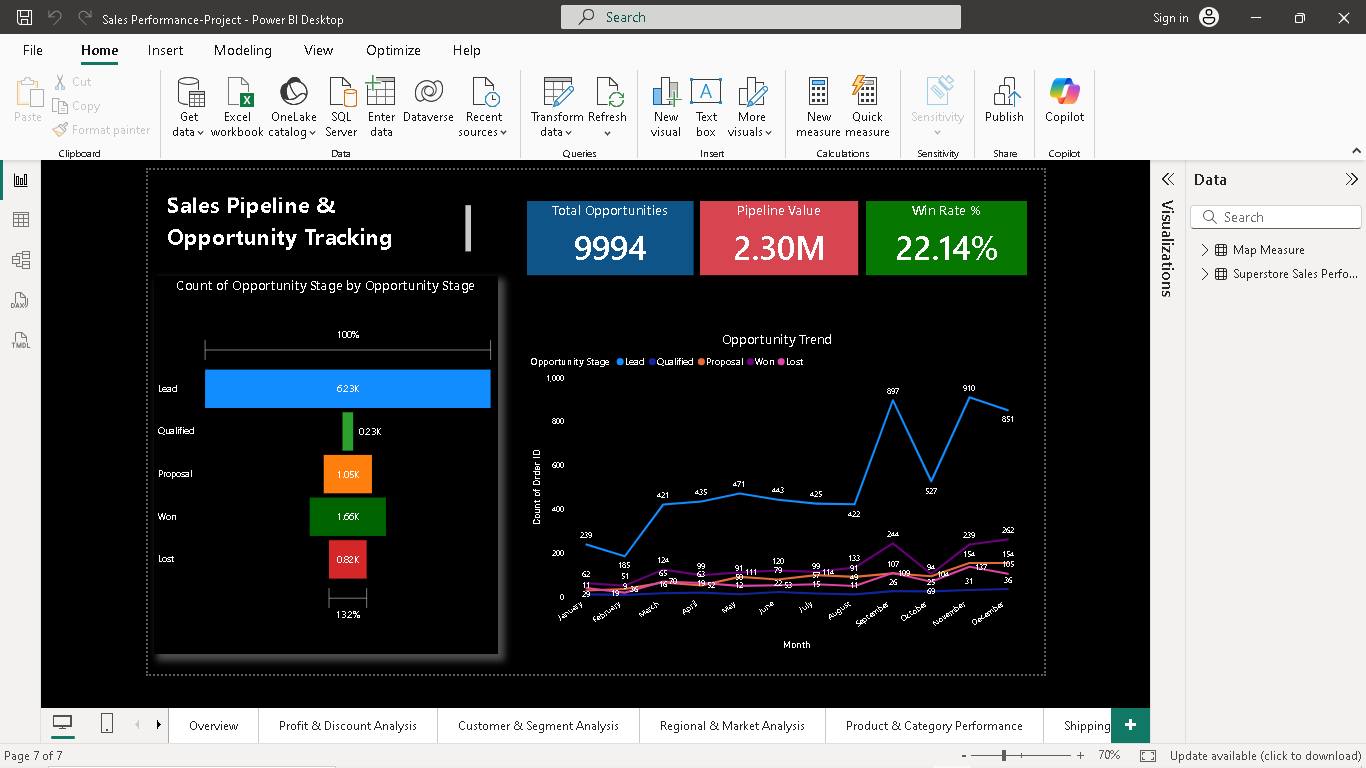

The page's visual inventory and layout, read from the dashboard file:
{"tool":"powerbi","page":{"name":"Sales Pipeline & Opportunity Tracking","canvas":[1280,720],"ordinal":6},"visuals":[{"type":"funnel","fields":{"Category":["Superstore Sales Performance.Opportunity Stage"],"Y":["CountNonNull(Superstore Sales Performance.Opportunity Stage)"]},"box":[8.9,152.1,490.8,539.7],"z":0},{"type":"card","title":"Total Opportunities","fields":{"Values":["CountNonNull(Superstore Sales Performance.Sales)"]},"box":[541.2,45,237.5,106.2],"z":1000},{"type":"card","title":"Pipeline Value","fields":{"Values":["Sum(Superstore Sales Performance.Sales)"]},"box":[788.8,45,226.2,106.2],"z":2000},{"type":"card","title":"Win Rate %","fields":{"Values":["Superstore Sales Performance.Win Rate %"]},"box":[1025,45,230,106.2],"z":3000},{"type":"lineChart","title":"Opportunity Trend","fields":{"Category":["Superstore Sales Performance.Order Date.Variation.Date Hierarchy.Month"],"Series":["Superstore Sales Performance.Opportunity Stage"],"Y":["CountNonNull(Superstore Sales Performance.Order ID)"]},"box":[541.2,228.8,713.8,462.5],"z":4000},{"type":"textbox","box":[20.8,34,445.3,86.7],"z":4001}]}

Visuals, with their boxes on the page's 1280x720 design canvas (x1, y1, x2, y2). These are canvas units, not pixel positions in the 1366x768 screenshot, which may show the page scaled, cropped or inside an application window:
funnel - Superstore Sales Performance.Opportunity Stage x CountNonNull(Superstore Sales Performance.Opportunity Stage): (x1=9, y1=152, x2=500, y2=692)
"Total Opportunities" card: (x1=541, y1=45, x2=779, y2=151)
"Pipeline Value" card: (x1=789, y1=45, x2=1015, y2=151)
"Win Rate %" card: (x1=1025, y1=45, x2=1255, y2=151)
"Opportunity Trend" lineChart: (x1=541, y1=229, x2=1255, y2=691)
textbox: (x1=21, y1=34, x2=466, y2=121)
